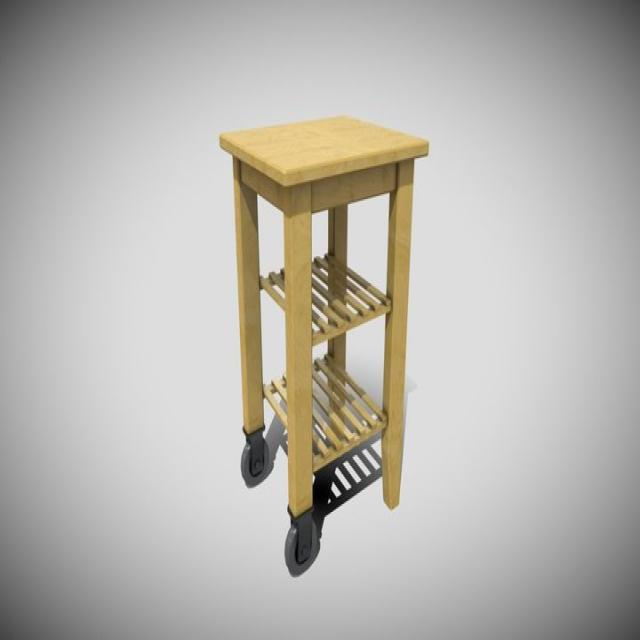table: (220, 111, 428, 574)
